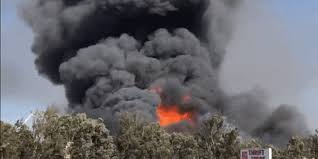smoke: (30, 1, 283, 75), (63, 77, 303, 124)
